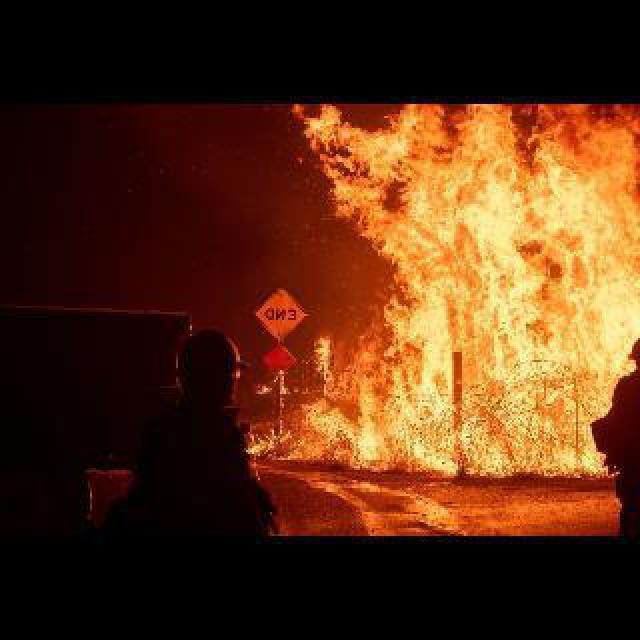Fire: (294, 98, 640, 468)
